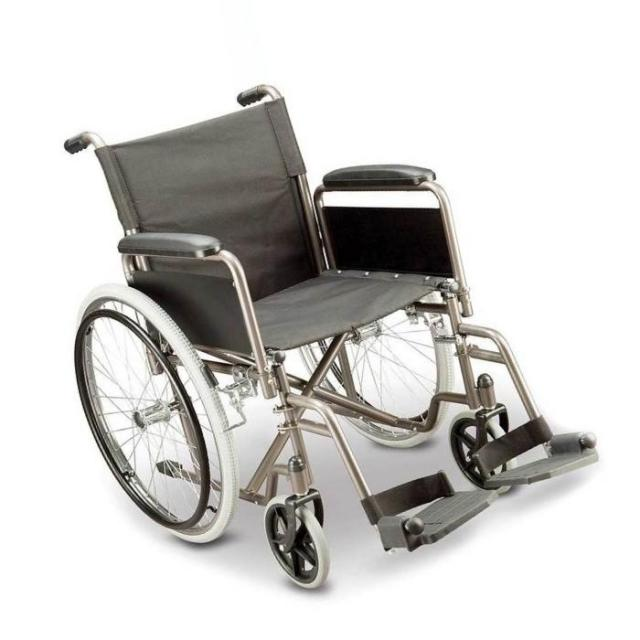wheelchair: (55, 70, 608, 595)
